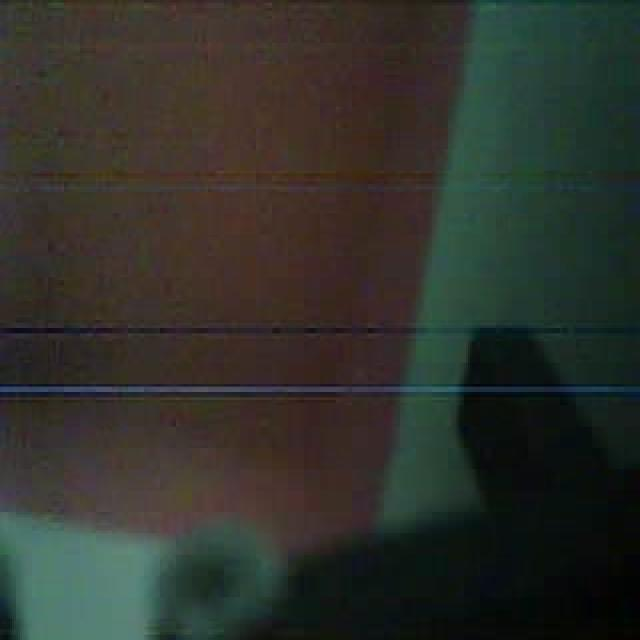red_box: (0, 1, 471, 571)
